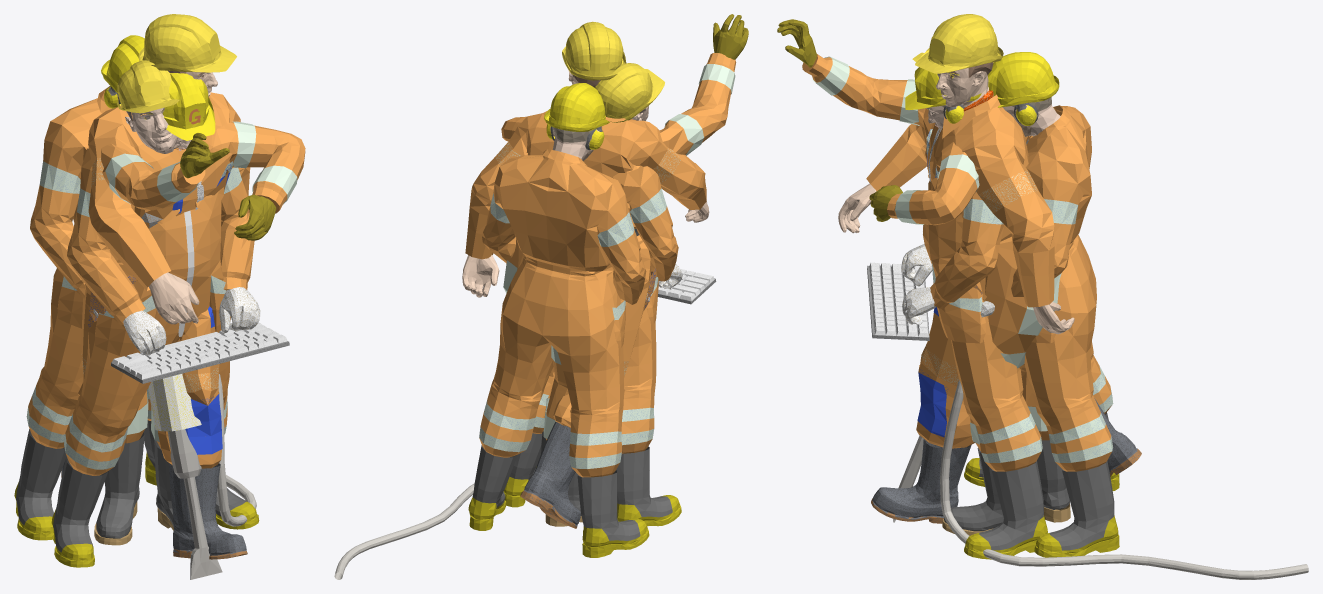
File: trabalhadores.glb
The picture shows the model from 3 angles, left to right: view 1: azimuth 30°, elevation 25°; view 2: azimuth 150°, elevation 25°; view 3: azimuth 270°, elevation 25°; orthographic projection. The views are drawn at different scales.
Parts seen in each view (by area): view 1: trab_a__c4_4, trab_andando__c7_7, trab_b__c11_11, trab_acenando__c1_1, trab_c__c0_0, trab_c__c8_8, trab_andando__c0_0, trab_acenando__c2_2, trab_andando__c3_3, trab_acenando__c3_3, trab_b__c6_6, trab_a__c0_0 (+26 smaller); view 2: trab_b__c11_11, trab_andando__c7_7, trab_c__c8_8, trab_b__c6_6, trab_acenando__c1_1, trab_b__c12_12, trab_andando__c3_3, trab_andando__c0_0, trab_b__c1_1, trab_acenando__c6_6, trab_c__c3_3, trab_b__c14_14 (+12 smaller); view 3: trab_b__c11_11, trab_andando__c7_7, trab_acenando__c1_1, trab_a__c4_4, trab_c__c8_8, trab_b__c2_2, trab_andando__c3_3, trab_b__c6_6, trab_andando__c0_0, trab_acenando__c3_3, trab_c__c0_0, trab_b__c1_1 (+16 smaller).
Boxes of the visible parts, x1,y1,x2,y2 form: trab_a__c4_4: (66,147,252,475); trab_andando__c7_7: (77,92,250,468); trab_b__c11_11: (28,86,151,448); trab_acenando__c1_1: (101,122,305,449); trab_c__c0_0: (111,240,287,379); trab_c__c8_8: (65,149,254,475); trab_andando__c0_0: (138,14,236,72); trab_acenando__c2_2: (96,431,173,538); trab_andando__c3_3: (61,460,247,559); trab_acenando__c3_3: (105,121,297,442); trab_b__c6_6: (16,86,155,525); trab_a__c0_0: (123,210,260,355); trab_b__c11_11: (479,149,646,477); trab_andando__c7_7: (465,111,706,427); trab_c__c8_8: (532,165,678,453); trab_b__c6_6: (472,126,640,540); trab_acenando__c1_1: (501,53,736,440); trab_b__c12_12: (479,193,634,468); trab_andando__c3_3: (521,422,580,526); trab_andando__c0_0: (562,21,626,80); trab_b__c1_1: (544,83,609,149); trab_acenando__c6_6: (594,63,664,122); trab_c__c3_3: (509,433,672,517); trab_b__c14_14: (468,491,649,557); trab_b__c11_11: (1011,105,1111,471); trab_andando__c7_7: (866,94,1054,448); trab_acenando__c1_1: (802,54,1049,450); trab_a__c4_4: (923,175,1041,471); trab_c__c8_8: (923,176,1040,471); trab_b__c2_2: (940,380,1308,579); trab_andando__c3_3: (872,398,1141,522); trab_b__c6_6: (1014,103,1114,550); trab_andando__c0_0: (915,14,1003,73); trab_acenando__c3_3: (812,56,1061,444); trab_c__c0_0: (869,245,934,337); trab_b__c1_1: (987,52,1059,125).
Size of the model in its own units: 0.8341 by 1.78 by 1.7.
